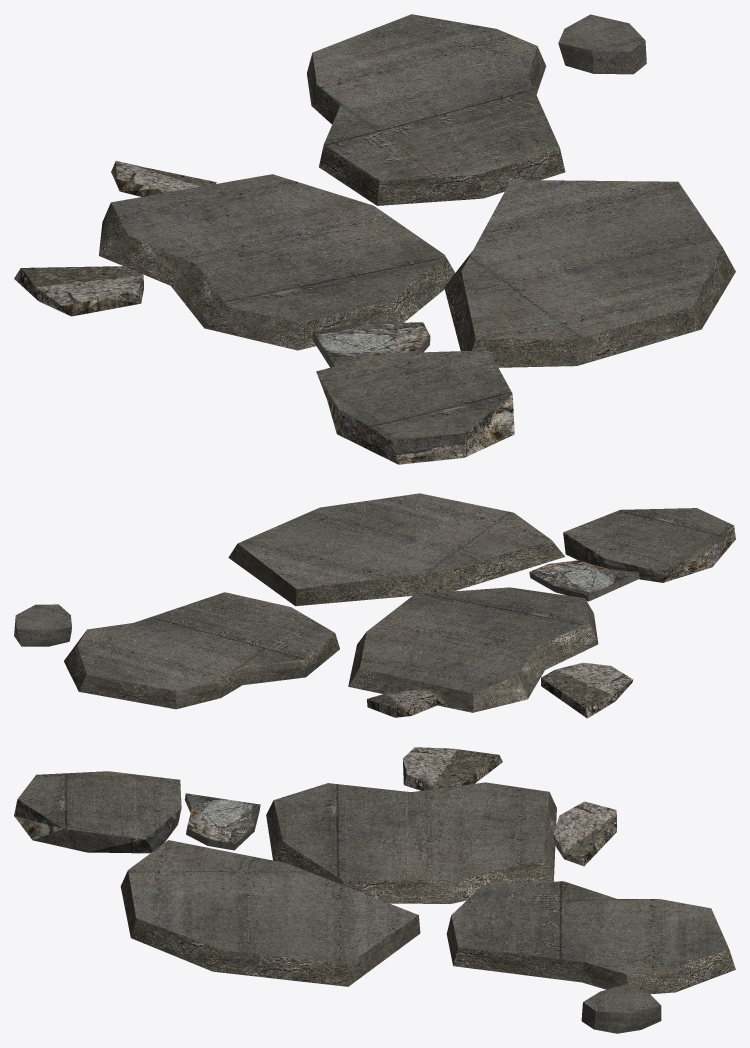
The model's file is Prop_Sst3.glb.
3 renders of one model, top to bottom at view 1: azimuth 30°, elevation 25°; view 2: azimuth 150°, elevation 25°; view 3: azimuth 270°, elevation 25°, orthographic. The views are drawn at different scales.
Parts seen in each view (by area): view 1: xiutz_sst3_0; view 2: xiutz_sst3_0; view 3: xiutz_sst3_0.
Boxes of the visible parts, left/top/right/bottom form: xiutz_sst3_0: left=14, top=14, right=735, bottom=464; xiutz_sst3_0: left=14, top=493, right=735, bottom=718; xiutz_sst3_0: left=14, top=747, right=735, bottom=1033.
Size of the model in its own units: 1.87 by 0.0994 by 2.04.
Materials: 2 (2 with a texture image).
